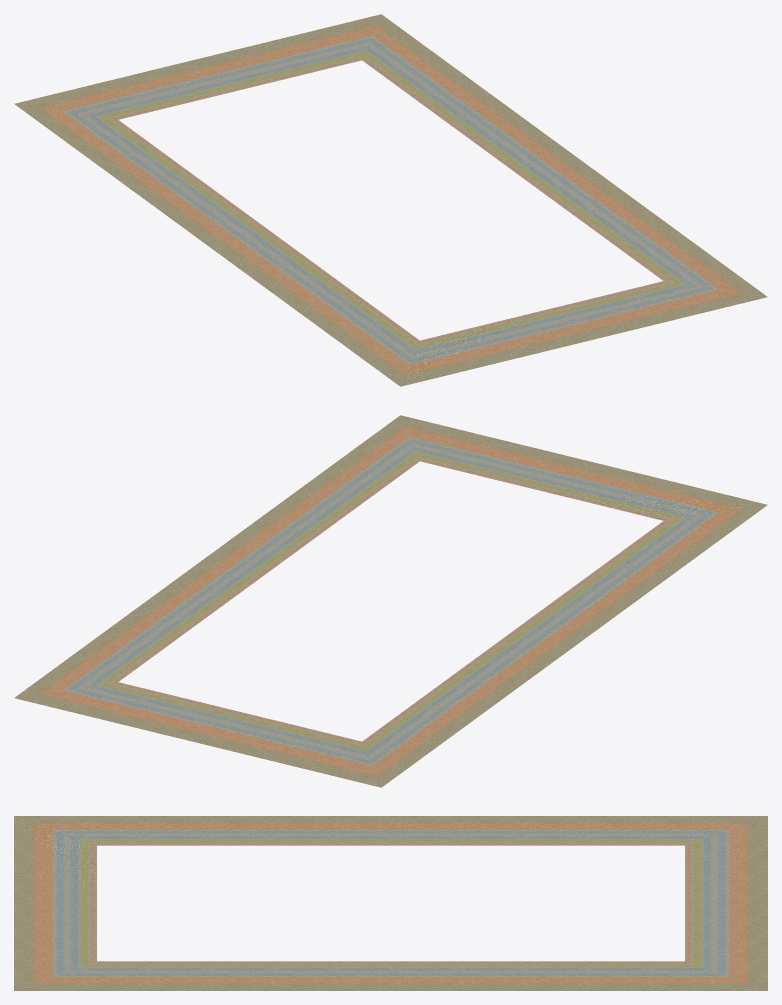
Rendered from kd_stage_135d18_4_64.glb.
3 renders of one model, top to bottom at view 1: azimuth 30°, elevation 25°; view 2: azimuth 150°, elevation 25°; view 3: azimuth 270°, elevation 25°, orthographic. The views are drawn at different scales.
Parts seen in each view (by area): view 1: kd_stage_135d18_4_64; view 2: kd_stage_135d18_4_64; view 3: kd_stage_135d18_4_64.
Boxes of the visible parts, bbox=[...] form: kd_stage_135d18_4_64: bbox=[14, 14, 767, 386]; kd_stage_135d18_4_64: bbox=[14, 415, 767, 787]; kd_stage_135d18_4_64: bbox=[14, 816, 767, 990].
Bounding box in the file's own units: 0.8013 × 5.96e-08 × 1.46.
1 material, 1 textured.
